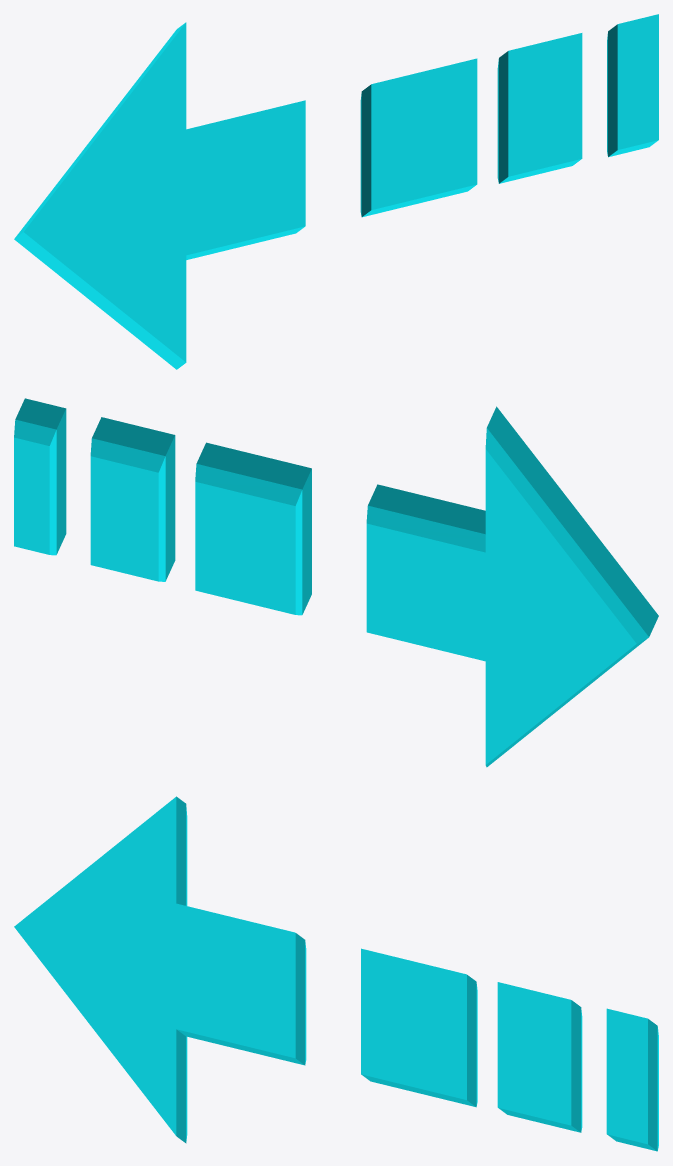
3 renders of one model, top to bottom at view 1: azimuth 30°, elevation 25°; view 2: azimuth 150°, elevation 25°; view 3: azimuth 330°, elevation 25°, orthographic.
Parts seen in each view (by area): view 1: imagetostl_mesh0, imagetostl_mesh1; view 2: imagetostl_mesh0, imagetostl_mesh1; view 3: imagetostl_mesh0, imagetostl_mesh1.
Boxes of the visible parts, bbox=[...] form: imagetostl_mesh0: bbox=[14, 22, 305, 369]; imagetostl_mesh1: bbox=[360, 14, 658, 217]; imagetostl_mesh0: bbox=[366, 406, 658, 767]; imagetostl_mesh1: bbox=[14, 398, 311, 615]; imagetostl_mesh0: bbox=[14, 796, 306, 1143]; imagetostl_mesh1: bbox=[361, 948, 658, 1151].
Bounding box in the file's own units: 1055 × 563 × 39.22.
